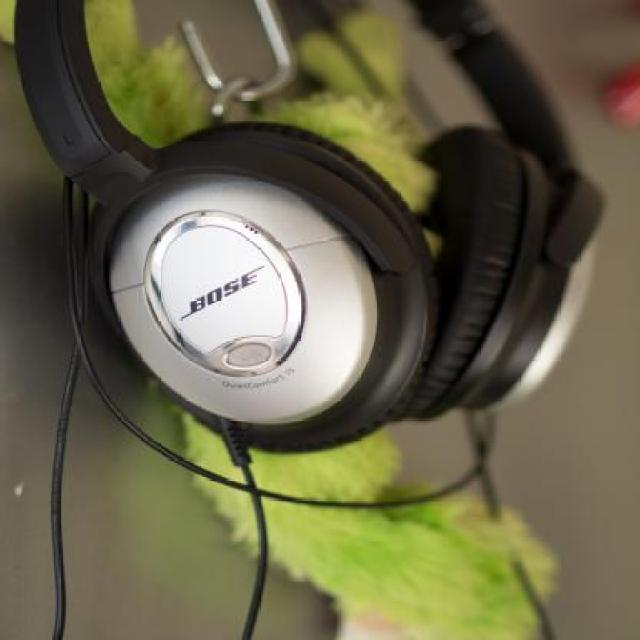earphone: (22, 1, 600, 446)
